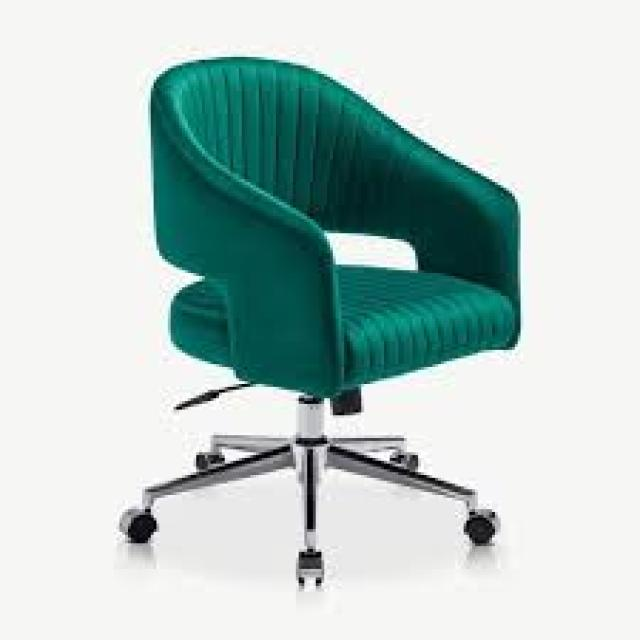chair: (59, 22, 566, 626)
